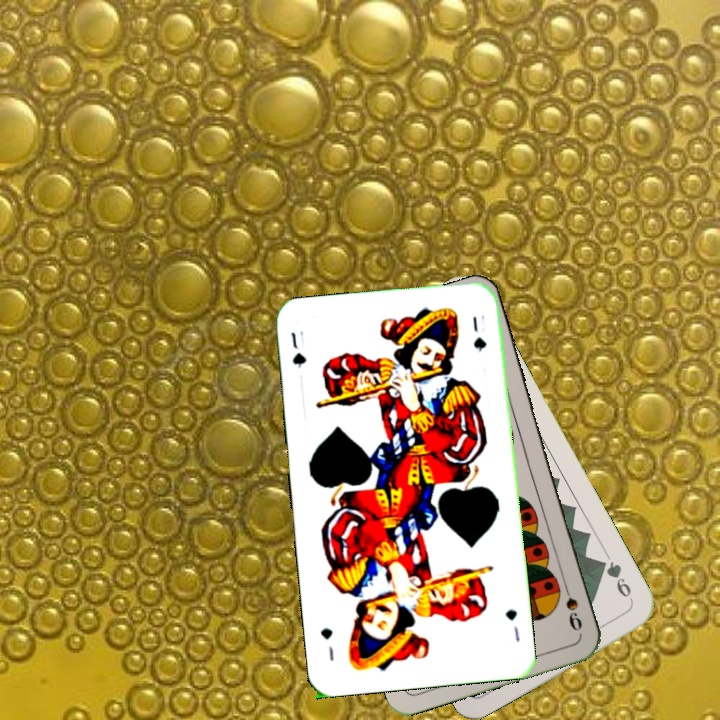G9: (594, 556, 637, 606)
GU: (287, 328, 309, 371), (502, 605, 523, 644)
S9: (558, 577, 585, 634)
